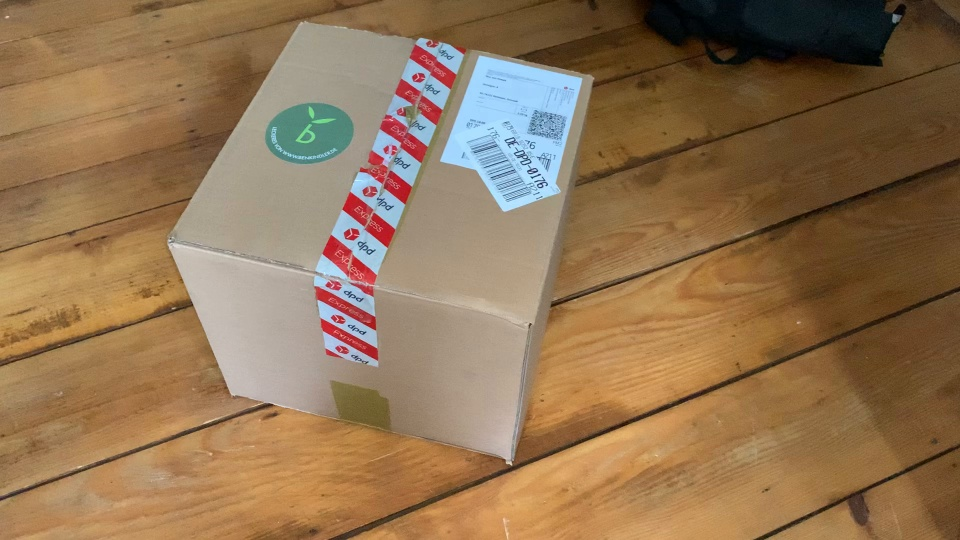good-parcel: (165, 21, 600, 469)
